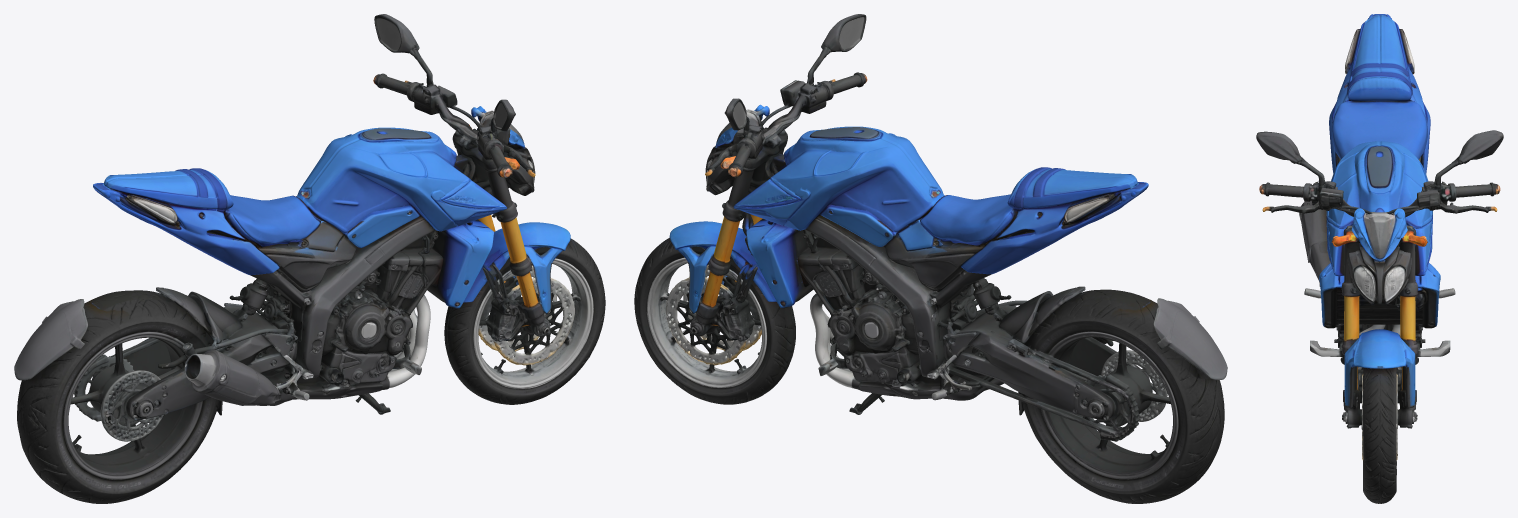
Rendered from bike-high.d92f13dd.glb.
The picture shows the model from 3 angles, left to right: view 1: azimuth 30°, elevation 25°; view 2: azimuth 150°, elevation 25°; view 3: azimuth 270°, elevation 25°; orthographic projection. The views are drawn at different scales.
Parts seen in each view (by area): view 1: trim_dark (×25), body_paint (×2); view 2: trim_dark (×27), body_paint (×2); view 3: trim_dark (×19), body_paint (×3).
Part boxes in pixels (<box>): trim_dark (×25): <box>14,14,605,503</box>; body_paint (×2): <box>452,124,531,286</box>; trim_dark (×27): <box>634,14,1227,503</box>; body_paint (×2): <box>700,128,787,306</box>; trim_dark (×19): <box>1256,14,1503,503</box>; body_paint (×3): <box>1341,225,1427,391</box>.
Bounding box in the file's own units: 2.02 × 1.19 × 0.807.
53 materials, 53 textured.
